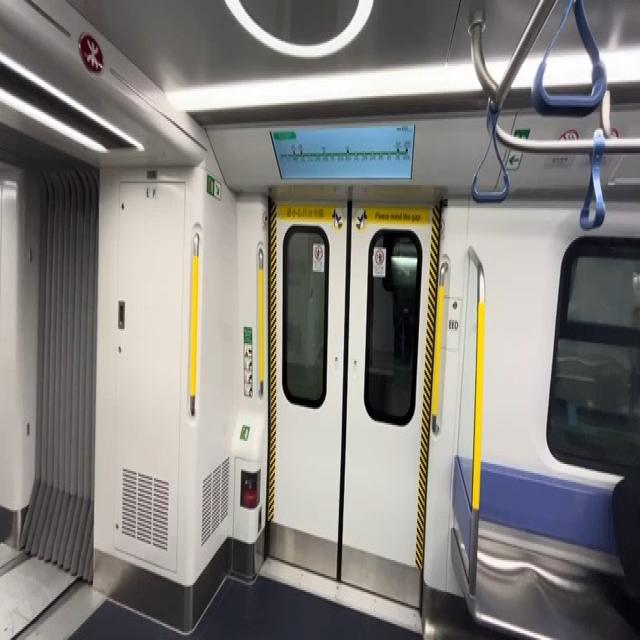bus-door: (263, 190, 442, 632)
